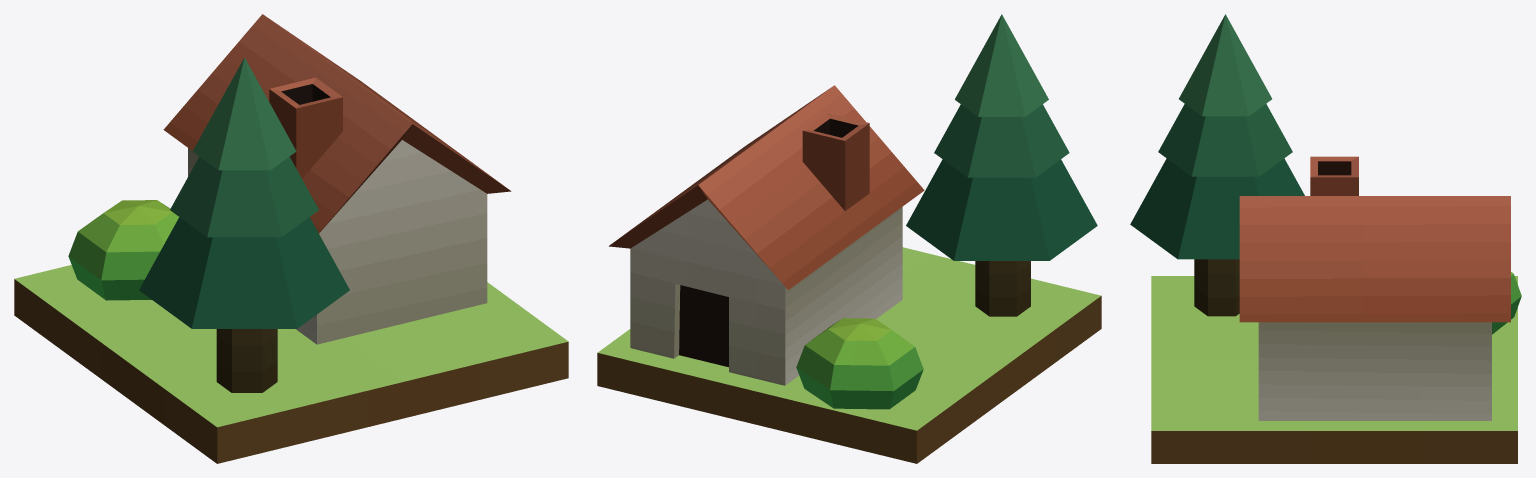
The model's file is maison sapin.fbx.
The picture shows the model from 3 angles, left to right: view 1: azimuth 30°, elevation 25°; view 2: azimuth 150°, elevation 25°; view 3: azimuth 270°, elevation 25°; orthographic projection. The views are drawn at different scales.
Visible parts, largest first — view 1: base 1, MAISON DEMANDE 1, sapin1, buisson; view 2: MAISON DEMANDE 1, base 1, sapin1, buisson; view 3: MAISON DEMANDE 1, base 1, sapin1, buisson.
Part boxes in pixels (<box>): base 1: <box>14,265,568,463</box>; MAISON DEMANDE 1: <box>163,14,511,344</box>; sapin1: <box>139,57,349,392</box>; buisson: <box>68,200,178,300</box>; MAISON DEMANDE 1: <box>609,85,924,385</box>; base 1: <box>597,247,1101,463</box>; sapin1: <box>906,14,1097,316</box>; buisson: <box>796,318,923,409</box>; MAISON DEMANDE 1: <box>1239,156,1510,420</box>; base 1: <box>1151,276,1517,463</box>; sapin1: <box>1130,14,1304,316</box>; buisson: <box>1492,272,1521,334</box>.
Bounding box in the file's own units: 206 × 214 × 196.
